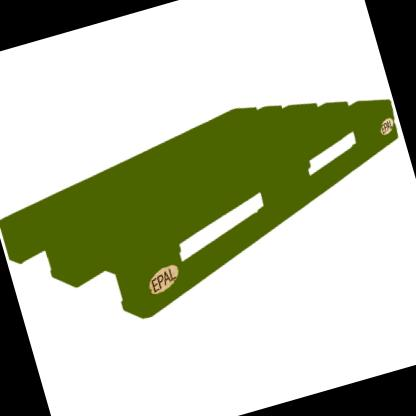BoxFace: (0, 95, 401, 325)
